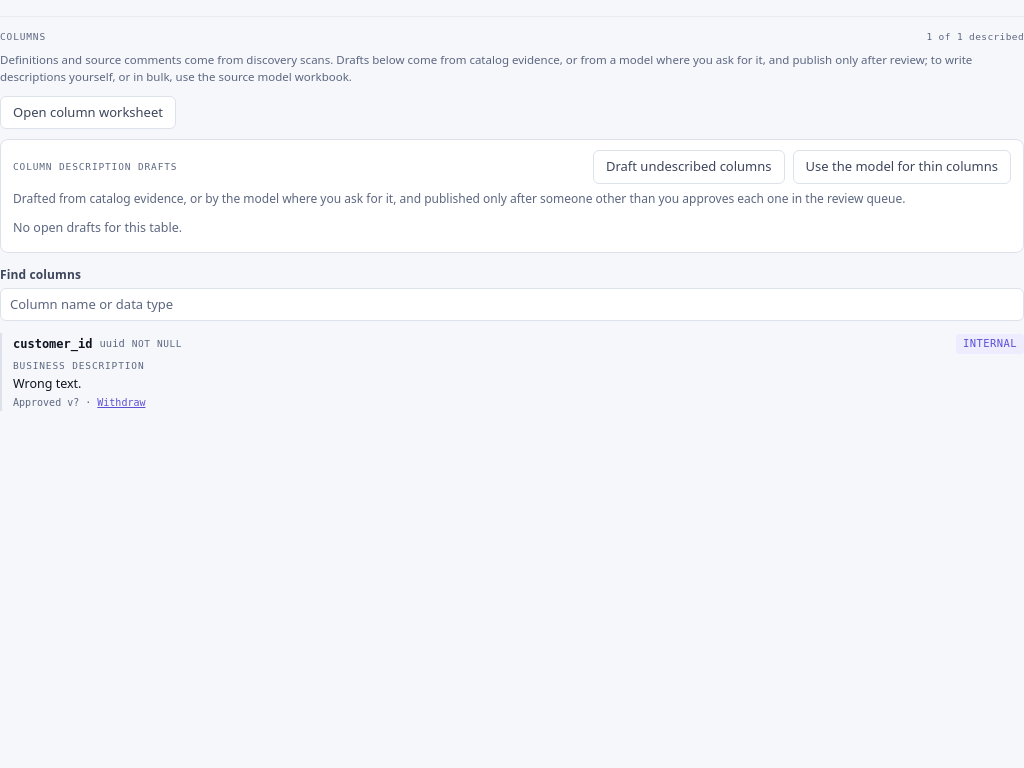
requests a withdrawal with the steward's reason and says a reviewer decides
Click the button "Withdraw": (121, 403) [97, 397, 146, 408]
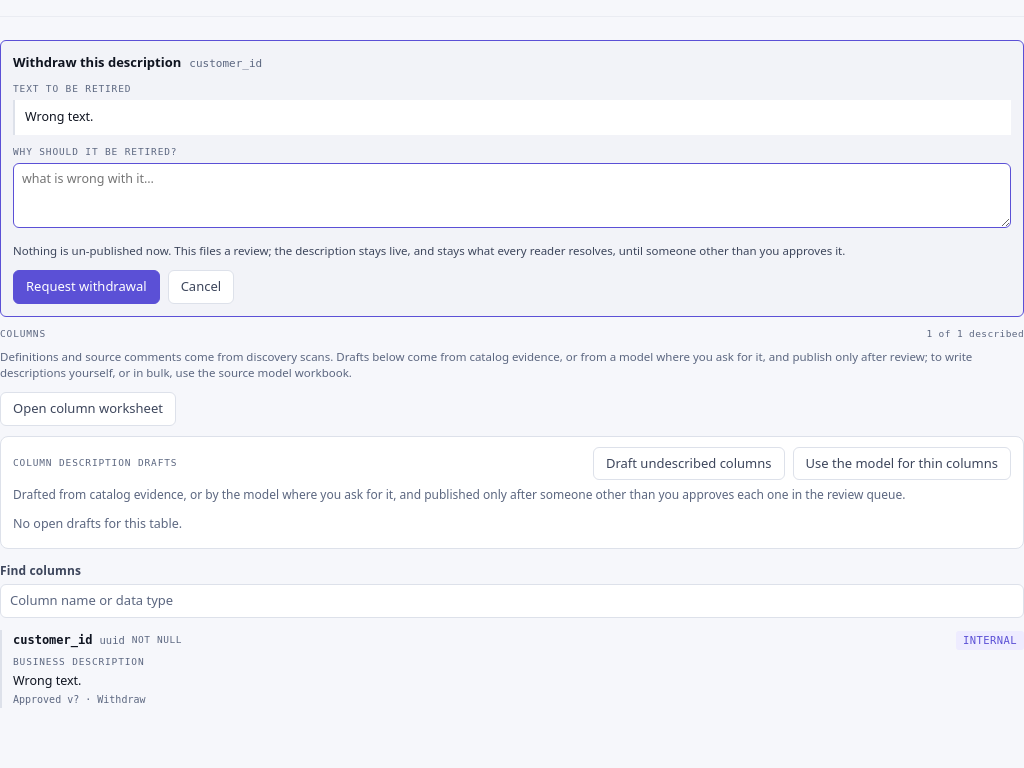
Expected: the dialog is shown, [0, 40, 1023, 316]
In the text box labelled "Why should it be retired?": (512, 195) [13, 163, 1011, 228], type "describes the wrong column"
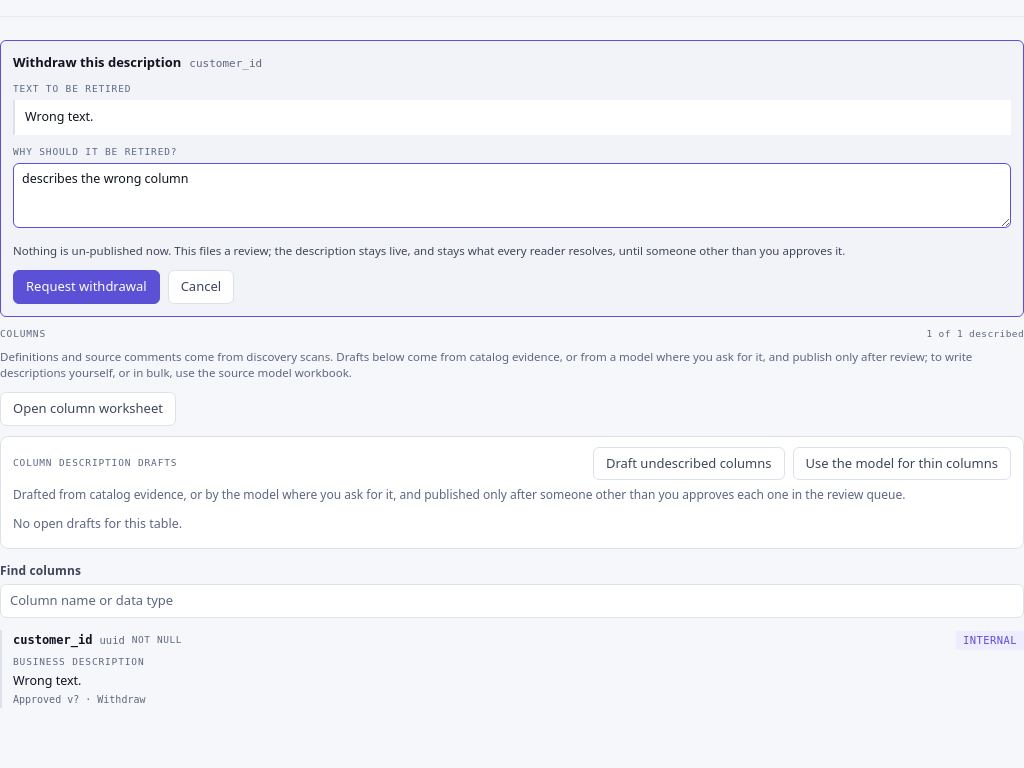
Click the button "Request withdrawal": (86, 287) [13, 270, 160, 304]
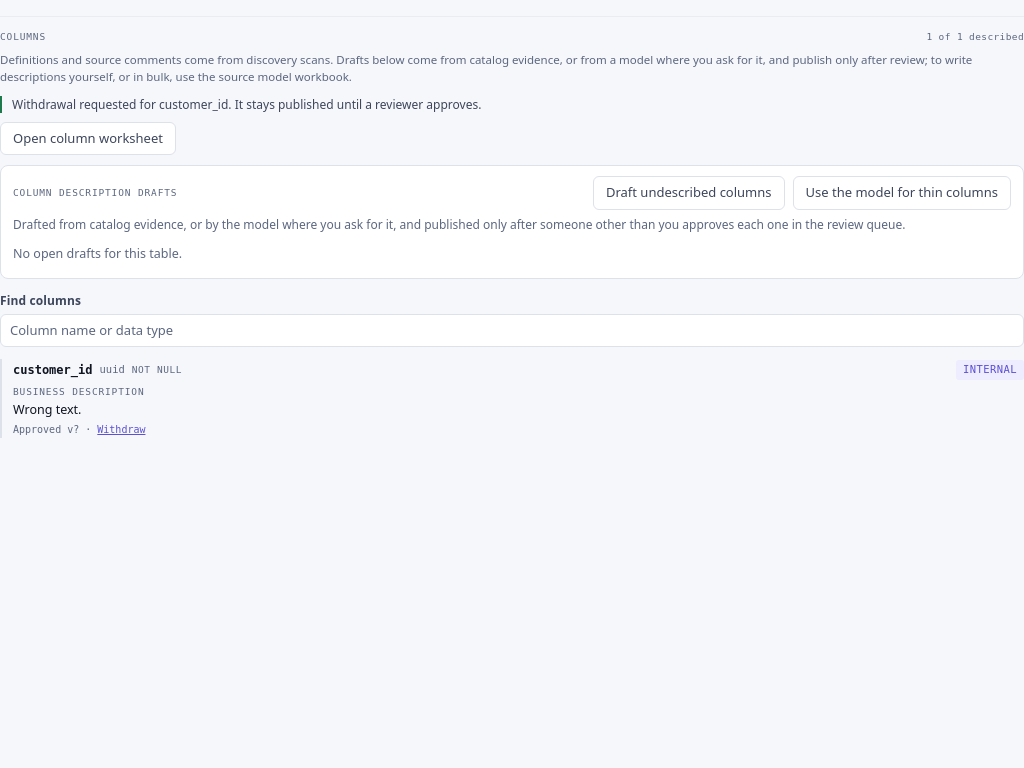
Expected: the text "stays published until a reviewer approves" is shown, [12, 96, 481, 113]
